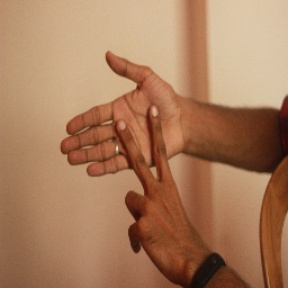N: (59, 48, 202, 254)
